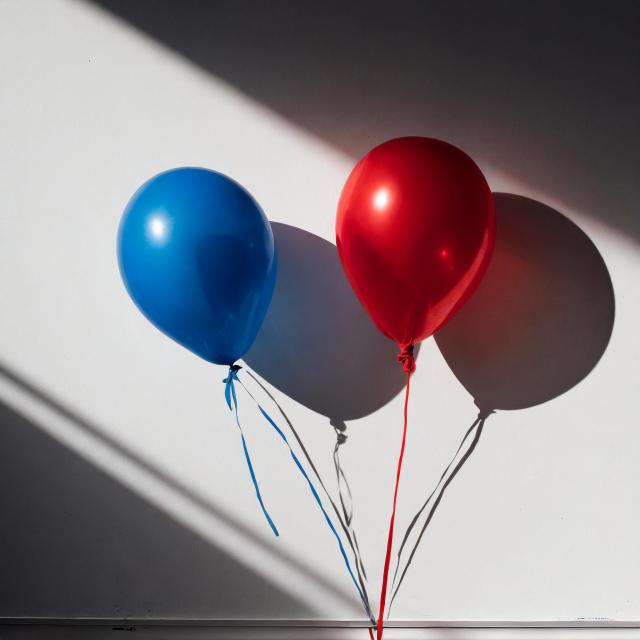blue: (119, 167, 273, 365)
red: (338, 135, 495, 352)
